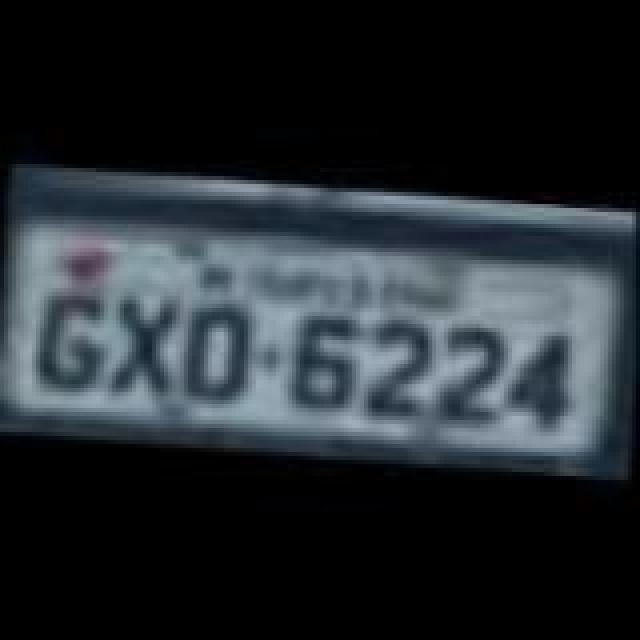2: (362, 310, 434, 418), (434, 314, 506, 422)
4: (504, 322, 580, 430)
6: (288, 312, 364, 412)
G: (32, 280, 108, 392)
O: (178, 298, 250, 406)
X: (102, 290, 182, 398)
